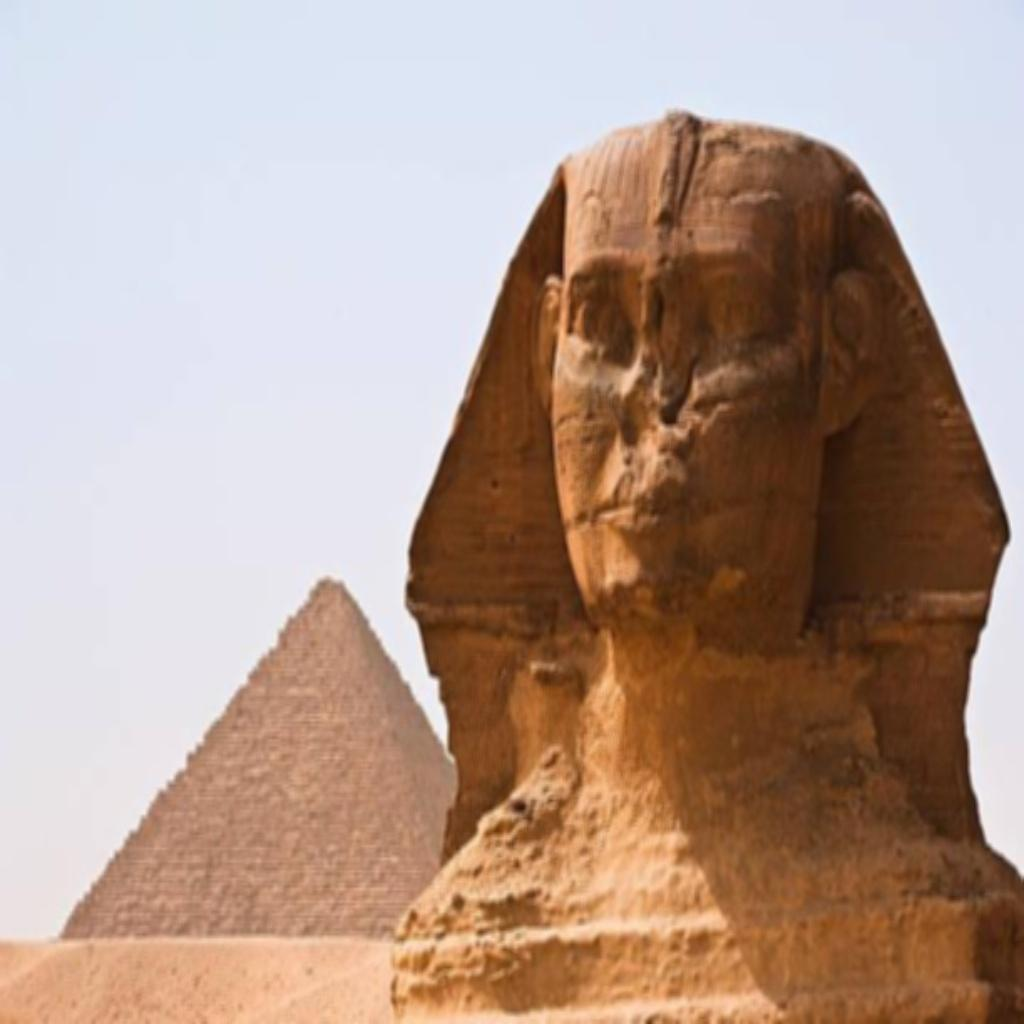Sphinx: (388, 106, 1020, 1019)
